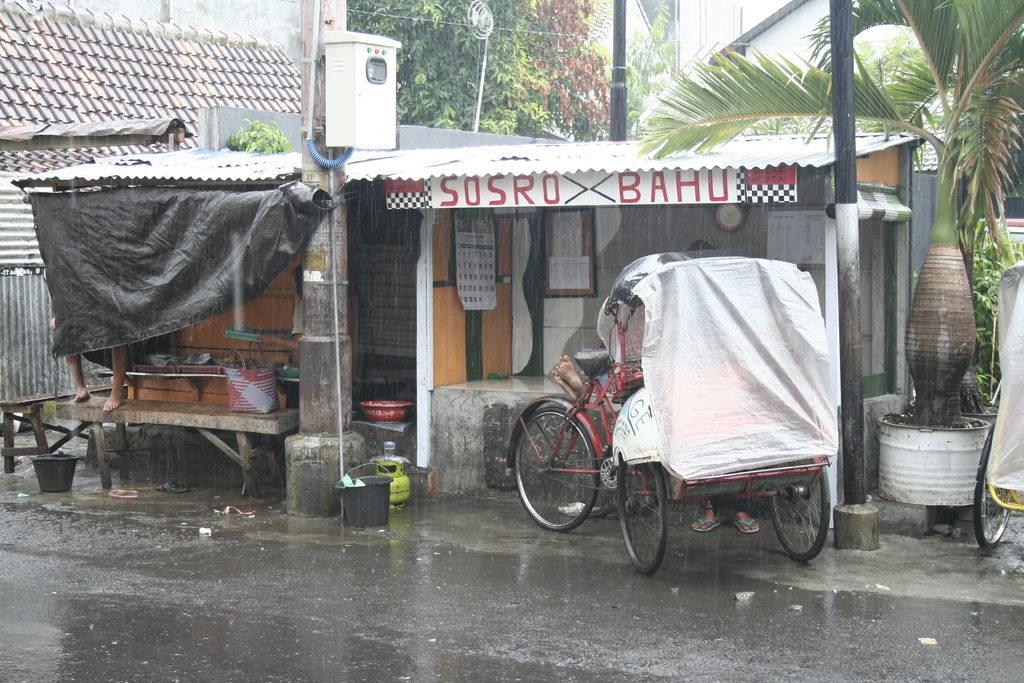Tree: (636, 0, 1024, 424), (348, 0, 680, 141)
